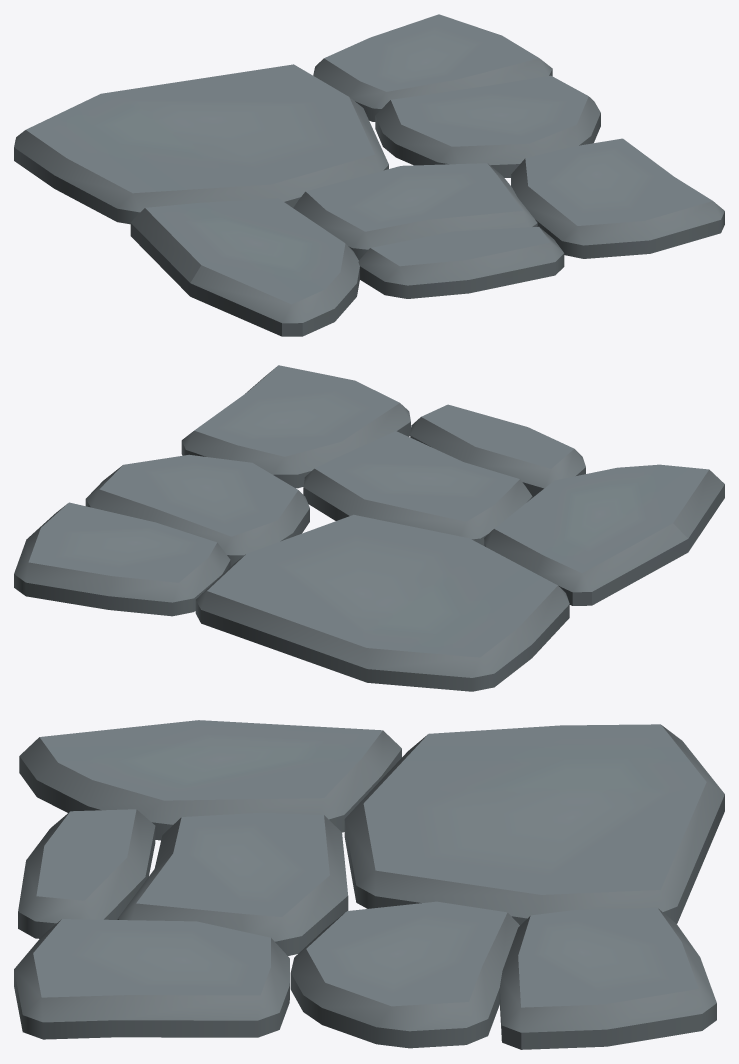
The model's file is path_a.glb.
3 views of the same model, one above another, from view 1: azimuth 30°, elevation 25°; view 2: azimuth 150°, elevation 25°; view 3: azimuth 270°, elevation 25° (orthographic). The views are drawn at different scales.
Parts seen in each view (by area): view 1: path_A; view 2: path_A; view 3: path_A.
Part boxes in pixels (box(x1,y1,x2,y2)): path_A: box(14, 14, 724, 336); path_A: box(14, 365, 724, 691); path_A: box(14, 720, 724, 1049).
Size of the model in its own units: 1.9 by 0.0999 by 1.88.
Materials: 1 (1 with a texture image).
